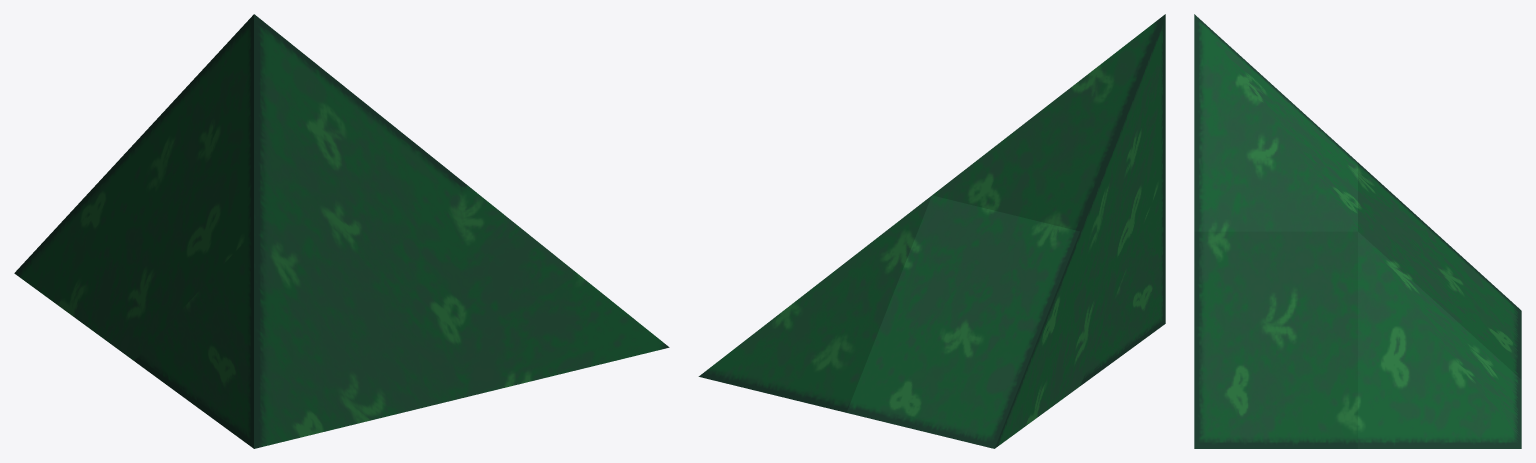
File: 5_grass.obj
3 renders of one model, left to right at view 1: azimuth 30°, elevation 25°; view 2: azimuth 150°, elevation 25°; view 3: azimuth 270°, elevation 25°, orthographic. The views are drawn at different scales.
Parts seen in each view (by area): view 1: 5_grass; view 2: 5_grass; view 3: 5_grass.
Boxes of the visible parts, box(x1,y1,x2,y2) form: 5_grass: box(14, 14, 669, 448); 5_grass: box(698, 14, 1165, 448); 5_grass: box(1194, 14, 1521, 448).
Bounding box in the file's own units: 1 × 1 × 1.
Materials: 1 (1 with a texture image).
